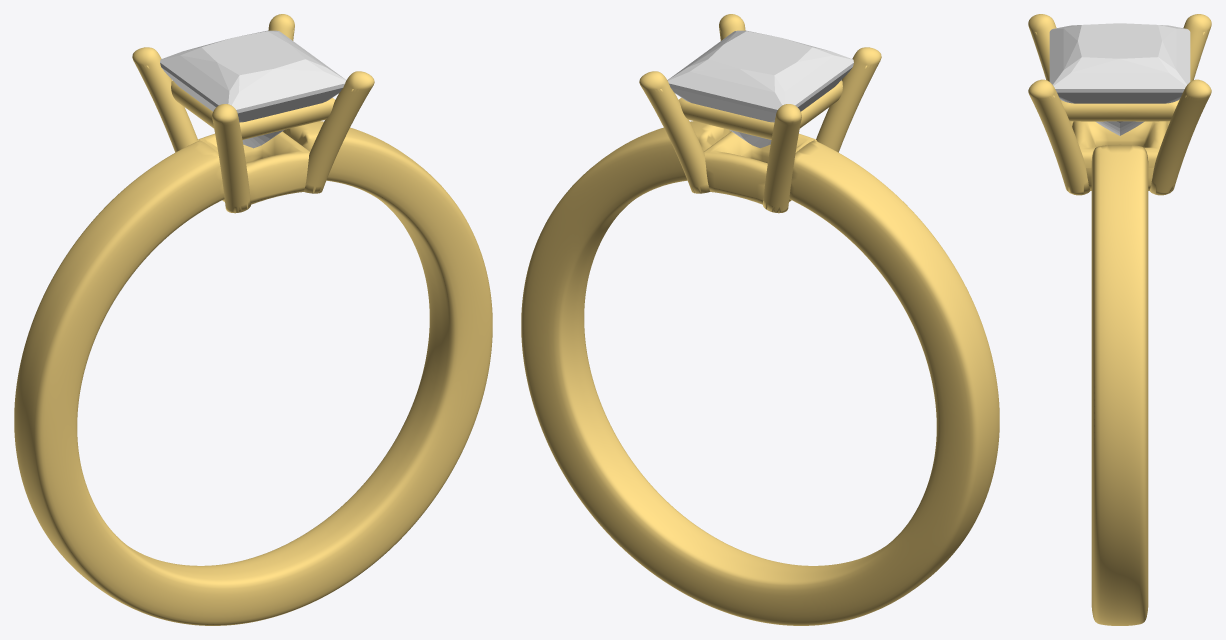
File: diamond-princess-yellowgold-4prong-straightband-solitaire.glb
The picture shows the model from 3 angles, left to right: view 1: azimuth 30°, elevation 25°; view 2: azimuth 150°, elevation 25°; view 3: azimuth 270°, elevation 25°; orthographic projection.
Parts seen in each view (by area): view 1: metal, stone; view 2: metal, stone; view 3: metal, stone.
Part boxes in pixels (bbox=[...]): metal: bbox=[14, 14, 492, 625]; stone: bbox=[160, 30, 346, 148]; metal: bbox=[521, 14, 999, 625]; stone: bbox=[667, 30, 853, 148]; metal: bbox=[1028, 14, 1211, 625]; stone: bbox=[1049, 23, 1190, 135].
Bounding box in the file's own units: 20.51 × 23.85 × 7.08.
